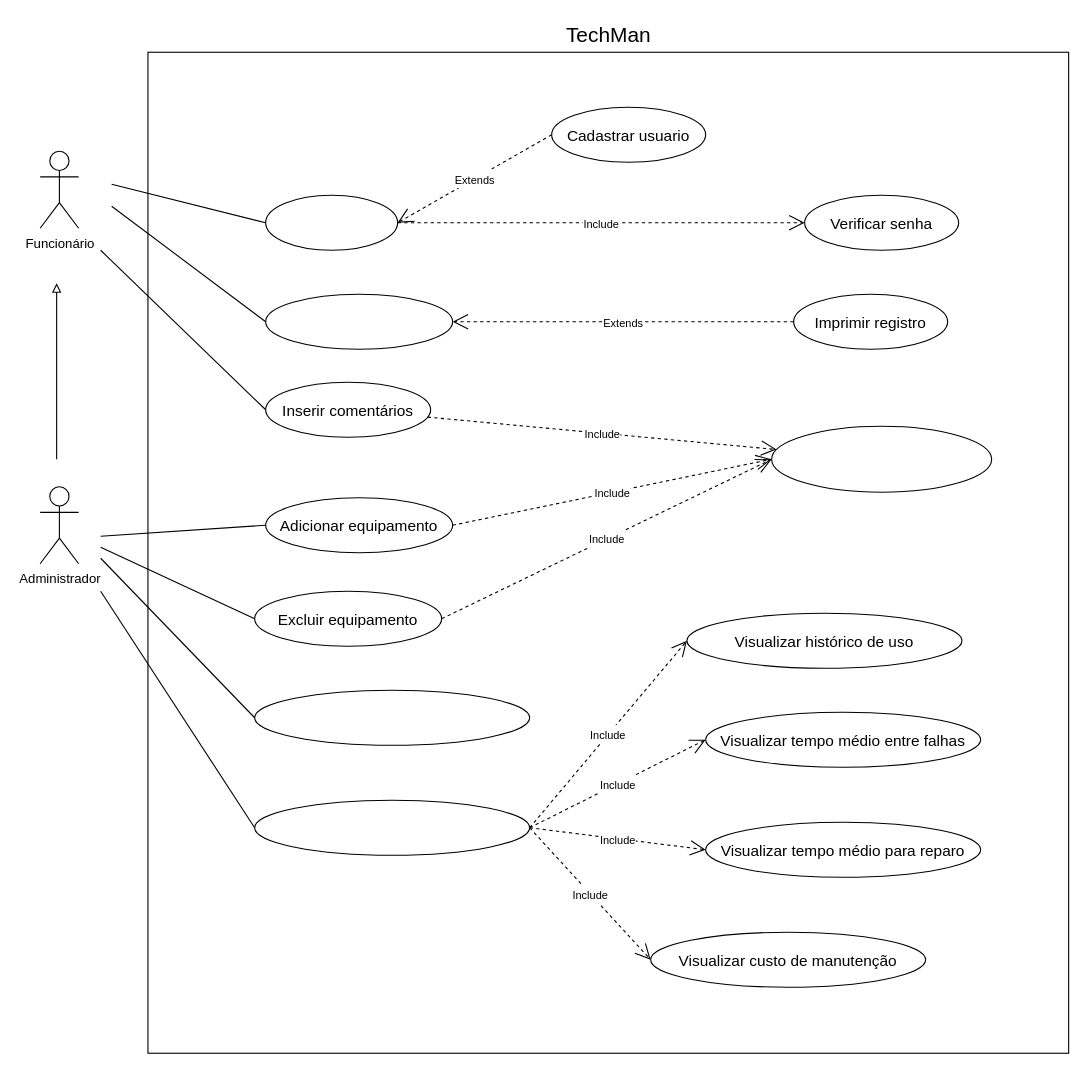
The diagram is 1088 pixels wide and 1073 high, and some of its shapes have lost their labels. The shapes that lost their labels are listed below. From the top down, each one's box as (x1, y1, x2, y2) in pixels, then its label:
(265, 194, 398, 250): Efetuar login
(265, 293, 453, 349): Visualizar equipamento
(771, 425, 992, 492): Atualizar histórico de equipamentos
(254, 689, 530, 745): Consultar comentários de um funcionário
(254, 799, 530, 855): Obter relatórios
